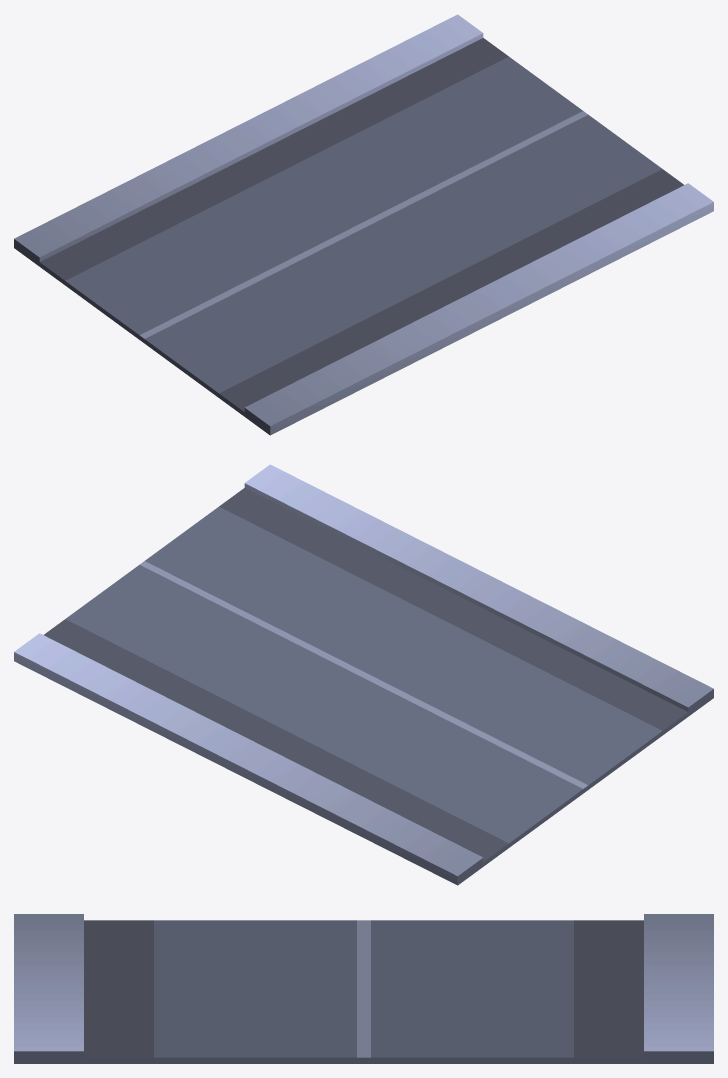
The model's file is road-slant-flat.glb.
3 renders of one model, top to bottom at view 1: azimuth 30°, elevation 25°; view 2: azimuth 150°, elevation 25°; view 3: azimuth 270°, elevation 25°, orthographic. The views are drawn at different scales.
Parts seen in each view (by area): view 1: road-slant-flat; view 2: road-slant-flat; view 3: road-slant-flat.
Part boxes in pixels (<box>): road-slant-flat: <box>14,14,713,435</box>; road-slant-flat: <box>14,464,713,885</box>; road-slant-flat: <box>14,914,713,1063</box>.
Bounding box in the file's own units: 1 × 0.27 × 1.
Materials: 1 (1 with a texture image).
